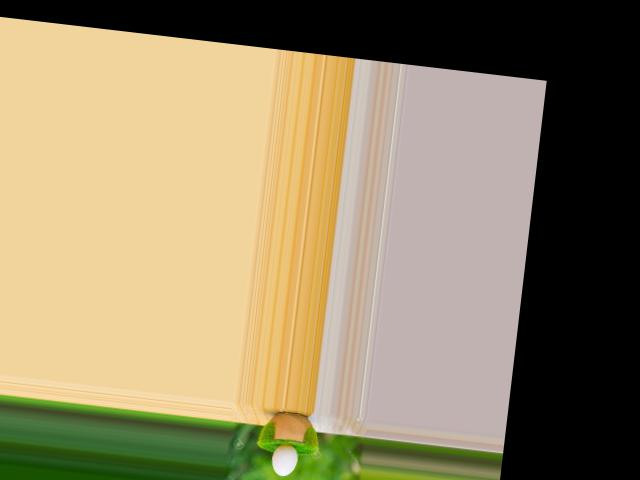egg: (271, 442, 300, 476)
